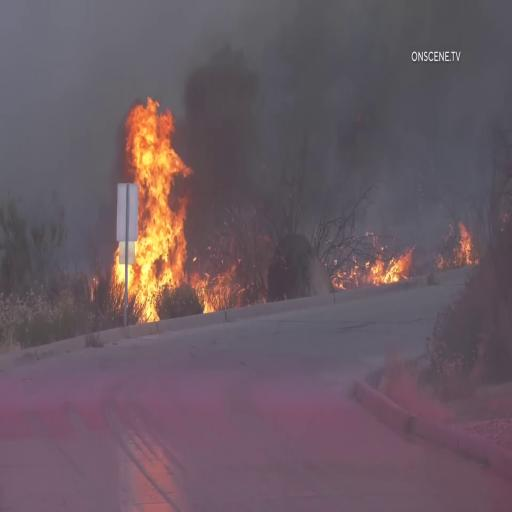fire: (126, 114, 180, 322), (346, 250, 417, 288)
smoke: (180, 25, 269, 242)
